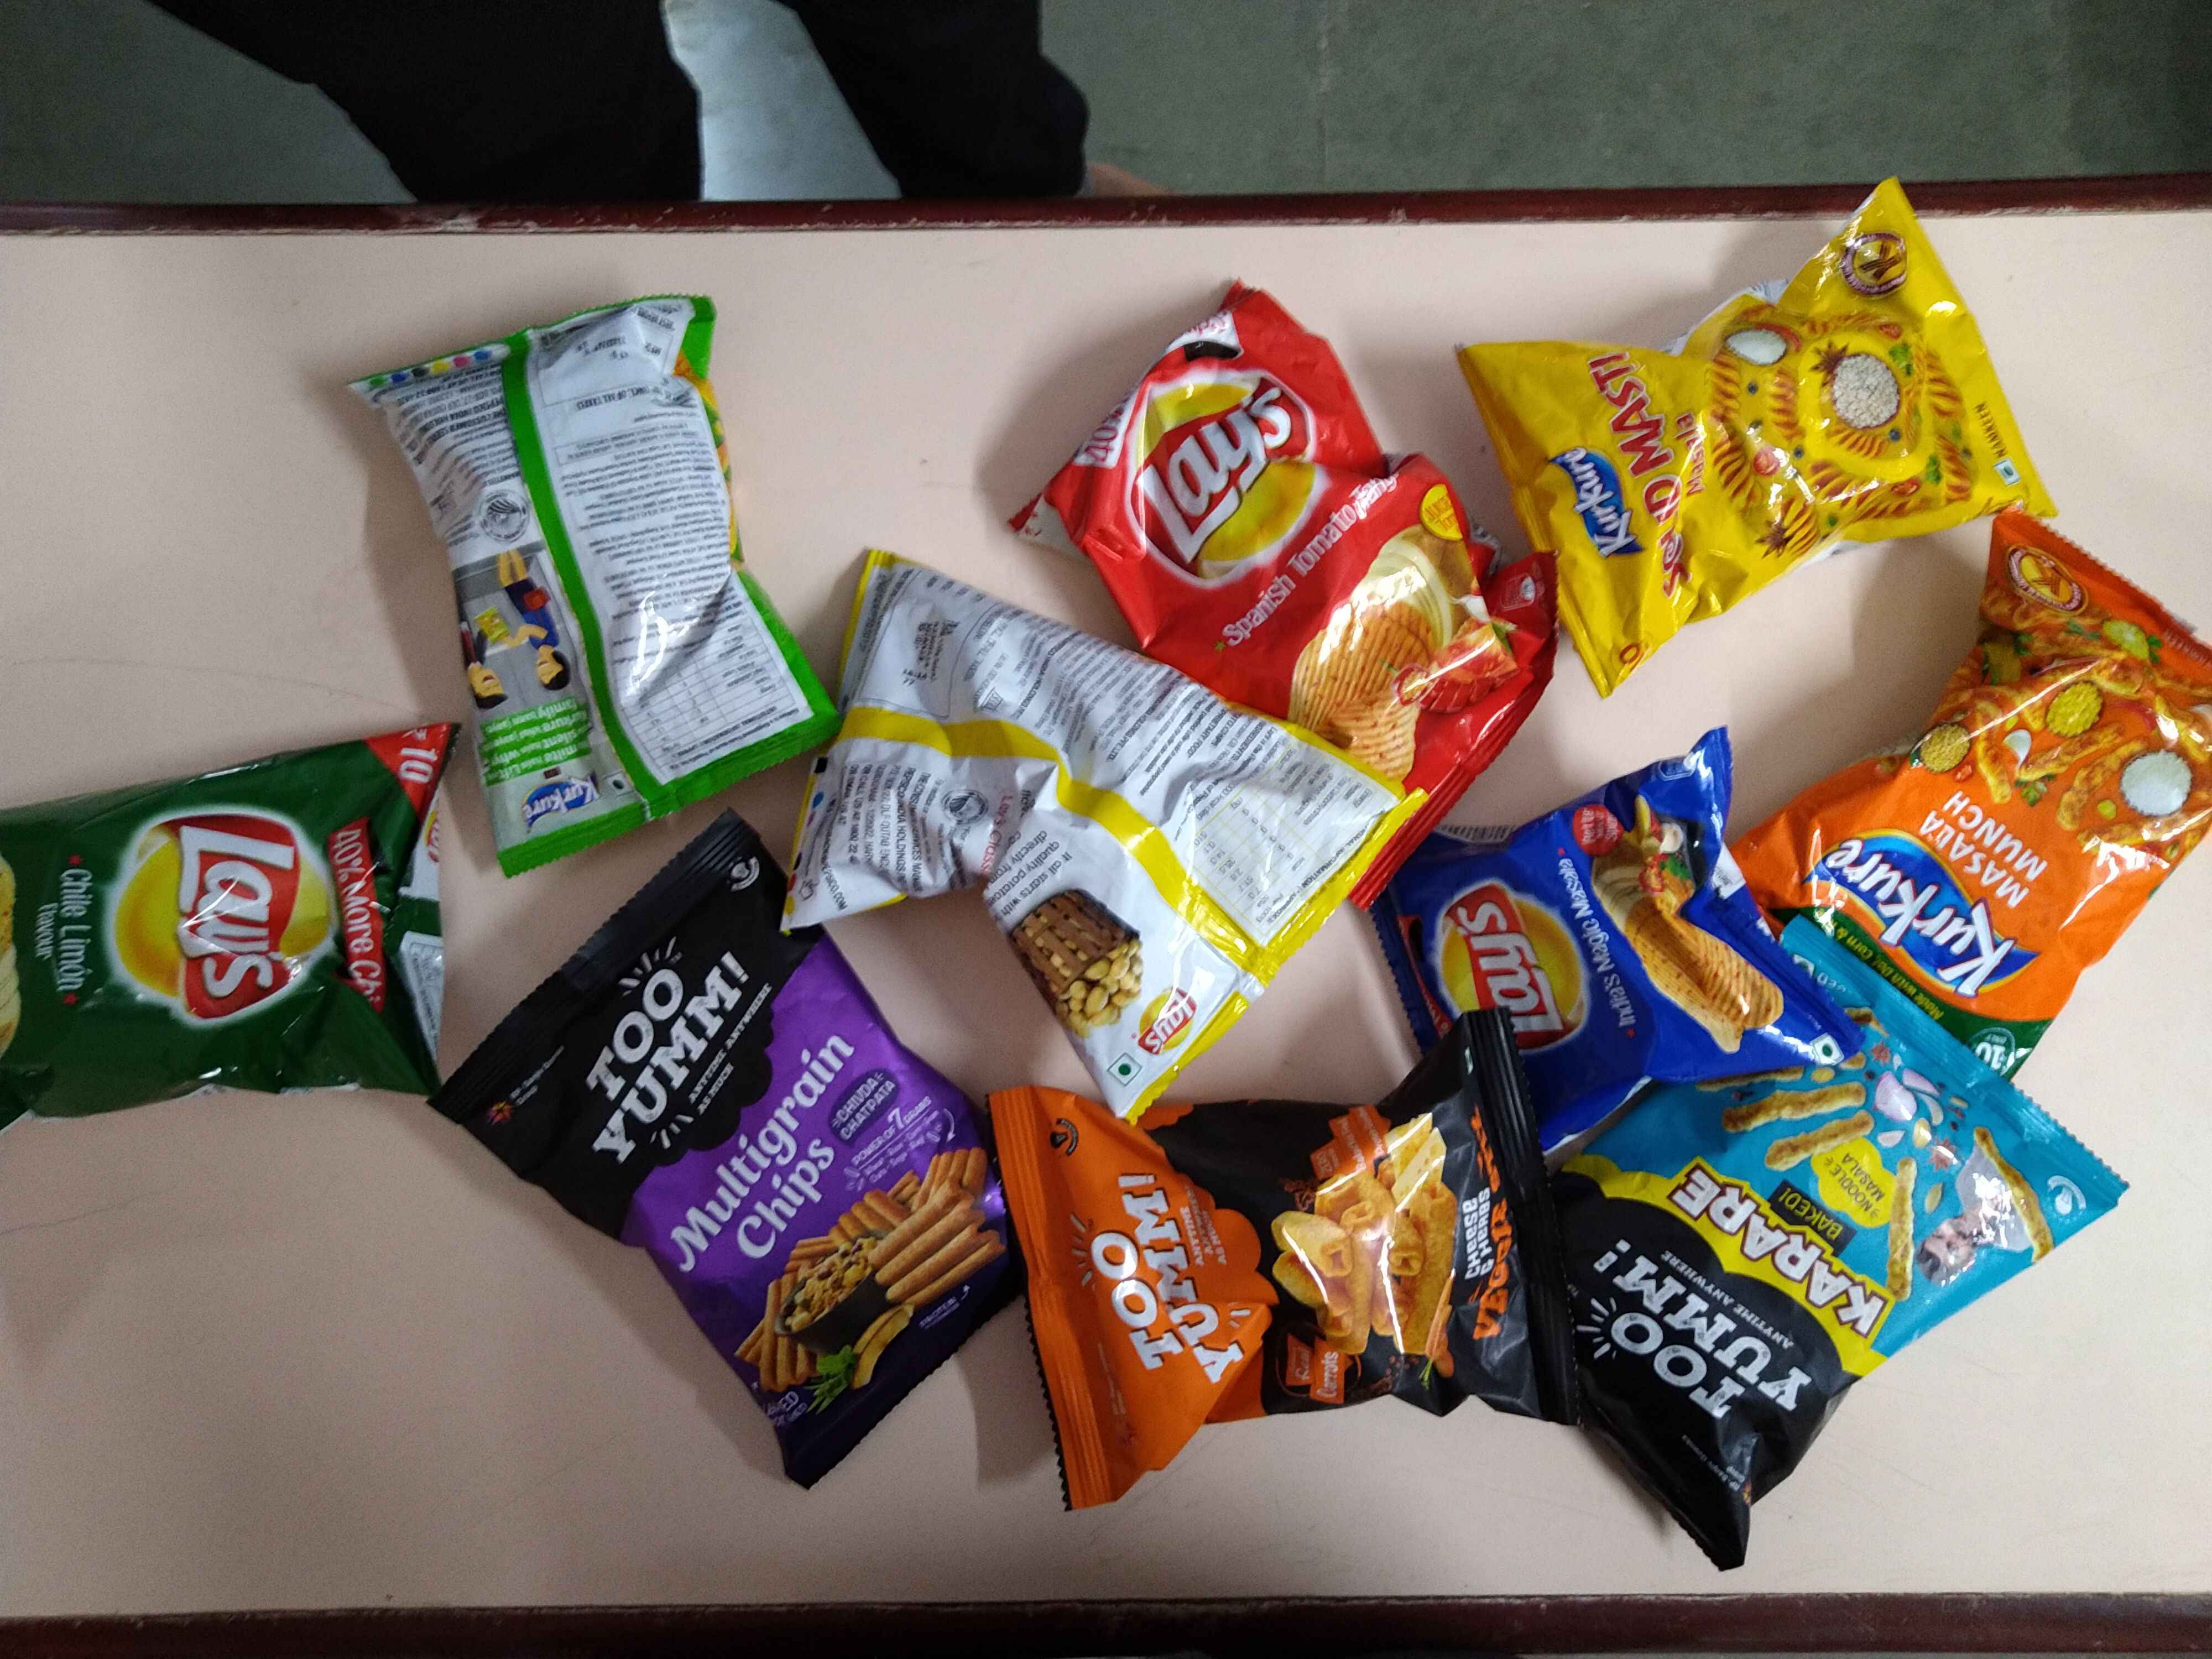Lays: (120, 805, 341, 1032), (1113, 371, 1329, 596), (1423, 882, 1629, 1056)
kurkure: (1810, 809, 2052, 1014), (1543, 423, 1641, 566), (510, 772, 611, 828)
tooyumm: (1571, 1218, 1810, 1457), (542, 953, 761, 1157), (1083, 1164, 1254, 1396)
